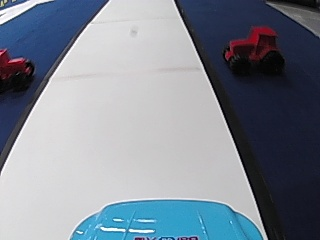tractor: (221, 24, 283, 77), (0, 46, 34, 93)
